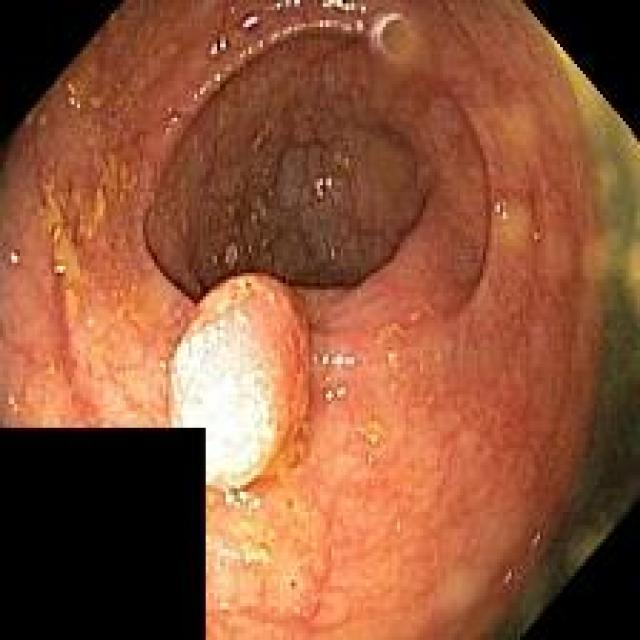Polyps: (170, 274, 310, 491)
